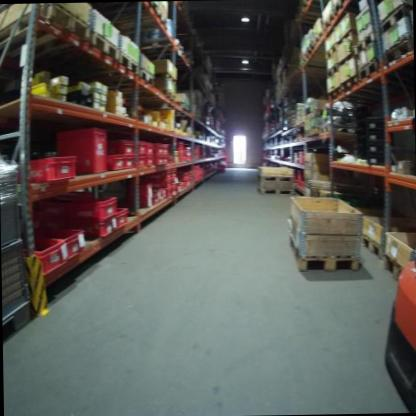pallet: (0, 2, 93, 57), (283, 226, 366, 275), (92, 32, 121, 64), (384, 36, 411, 67), (382, 253, 403, 286), (358, 57, 381, 83), (364, 232, 382, 263), (256, 186, 295, 197), (352, 34, 376, 51), (341, 73, 356, 95), (258, 173, 294, 182), (326, 65, 339, 81), (325, 43, 337, 58), (329, 87, 341, 101)
pallet_truck: (379, 237, 416, 412)
small_load_carrier: (57, 124, 111, 175), (38, 207, 131, 231), (15, 153, 80, 184), (21, 237, 69, 274), (29, 231, 81, 259), (66, 197, 121, 218), (38, 194, 84, 212), (107, 138, 133, 155), (127, 181, 155, 196), (362, 128, 391, 142), (366, 153, 393, 168), (103, 152, 123, 171), (362, 142, 393, 153), (127, 196, 153, 209), (146, 177, 172, 190), (364, 115, 390, 128), (143, 168, 170, 180), (128, 139, 147, 152), (175, 142, 186, 162), (153, 187, 165, 204), (123, 155, 138, 168), (134, 152, 147, 167), (166, 167, 180, 179), (144, 155, 155, 169), (154, 141, 164, 156), (162, 188, 173, 200), (161, 145, 172, 156), (184, 145, 192, 160), (167, 187, 177, 197), (147, 143, 155, 155), (150, 193, 156, 206), (176, 183, 183, 194), (171, 177, 177, 188), (164, 156, 171, 165), (157, 156, 164, 164), (184, 172, 192, 178)
stillage: (1, 196, 36, 352)
